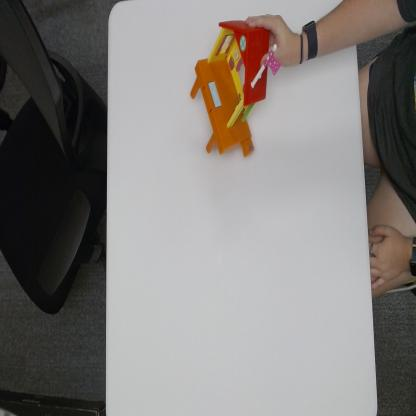Arm: (318, 0, 401, 51)
Hand: (246, 11, 302, 67)
House: (192, 20, 268, 160)
